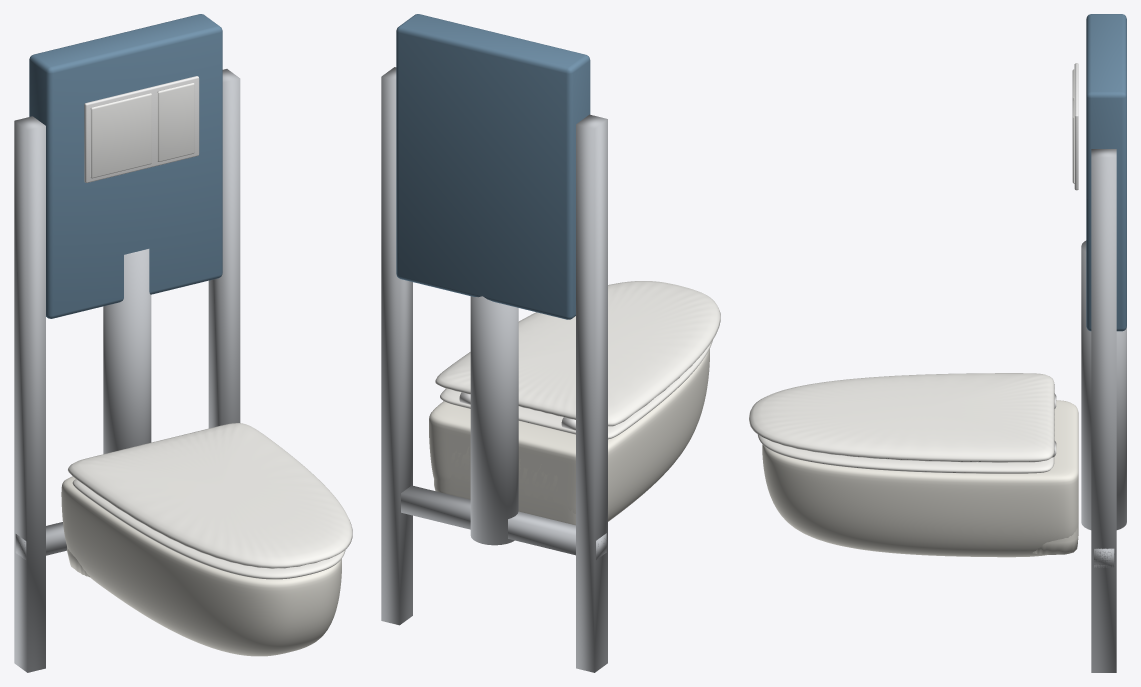
File: wall-hung-wc.glb
The picture shows the model from 3 angles, left to right: view 1: azimuth 30°, elevation 25°; view 2: azimuth 150°, elevation 25°; view 3: azimuth 270°, elevation 25°; orthographic projection. The views are drawn at different scales.
Parts seen in each view (by area): view 1: installation_cistern, wc_lid, wc_bowl, installation_post_l, installation_post_r, installation_pipe, flush_big, wc_seat, flush_small, flush_frame, installation_rail; view 2: installation_cistern, wc_lid, installation_post_l, wc_bowl, installation_post_r, installation_pipe, installation_rail, wc_wall_block, wc_seat; view 3: wc_bowl, wc_lid, installation_post_r, installation_cistern, installation_pipe, wc_seat, flush_frame, wc_wall_block.
Part boxes in pixels (bbox=[...]): installation_cistern: bbox=[29, 14, 222, 318]; wc_lid: bbox=[68, 423, 352, 568]; wc_bowl: bbox=[61, 476, 341, 656]; installation_post_l: bbox=[14, 116, 45, 672]; installation_post_r: bbox=[208, 69, 240, 428]; installation_pipe: bbox=[103, 249, 151, 454]; flush_big: bbox=[90, 93, 151, 178]; wc_seat: bbox=[72, 479, 345, 579]; flush_small: bbox=[157, 83, 194, 161]; flush_frame: bbox=[84, 76, 199, 182]; installation_rail: bbox=[15, 522, 66, 559]; installation_cistern: bbox=[396, 14, 590, 319]; wc_lid: bbox=[435, 281, 720, 426]; installation_post_l: bbox=[576, 114, 607, 672]; wc_bowl: bbox=[429, 349, 709, 521]; installation_post_r: bbox=[381, 67, 412, 625]; installation_pipe: bbox=[470, 296, 518, 545]; installation_rail: bbox=[401, 485, 606, 559]; wc_wall_block: bbox=[434, 447, 575, 525]; wc_seat: bbox=[440, 340, 712, 439]; wc_bowl: bbox=[762, 400, 1078, 557]; wc_lid: bbox=[749, 373, 1054, 462]; installation_post_r: bbox=[1091, 149, 1116, 672]; installation_cistern: bbox=[1086, 14, 1126, 331]; installation_pipe: bbox=[1081, 240, 1126, 529]; wc_seat: bbox=[757, 434, 1054, 473]; flush_frame: bbox=[1074, 63, 1078, 190]; wc_wall_block: bbox=[1033, 524, 1078, 554].
Bounding box in the file's own units: 0.46 × 1.24 × 0.7444.
